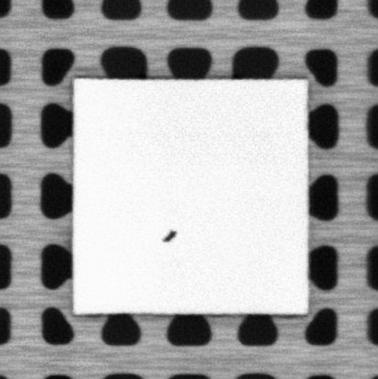DIE_INK: (162, 228, 177, 242)
